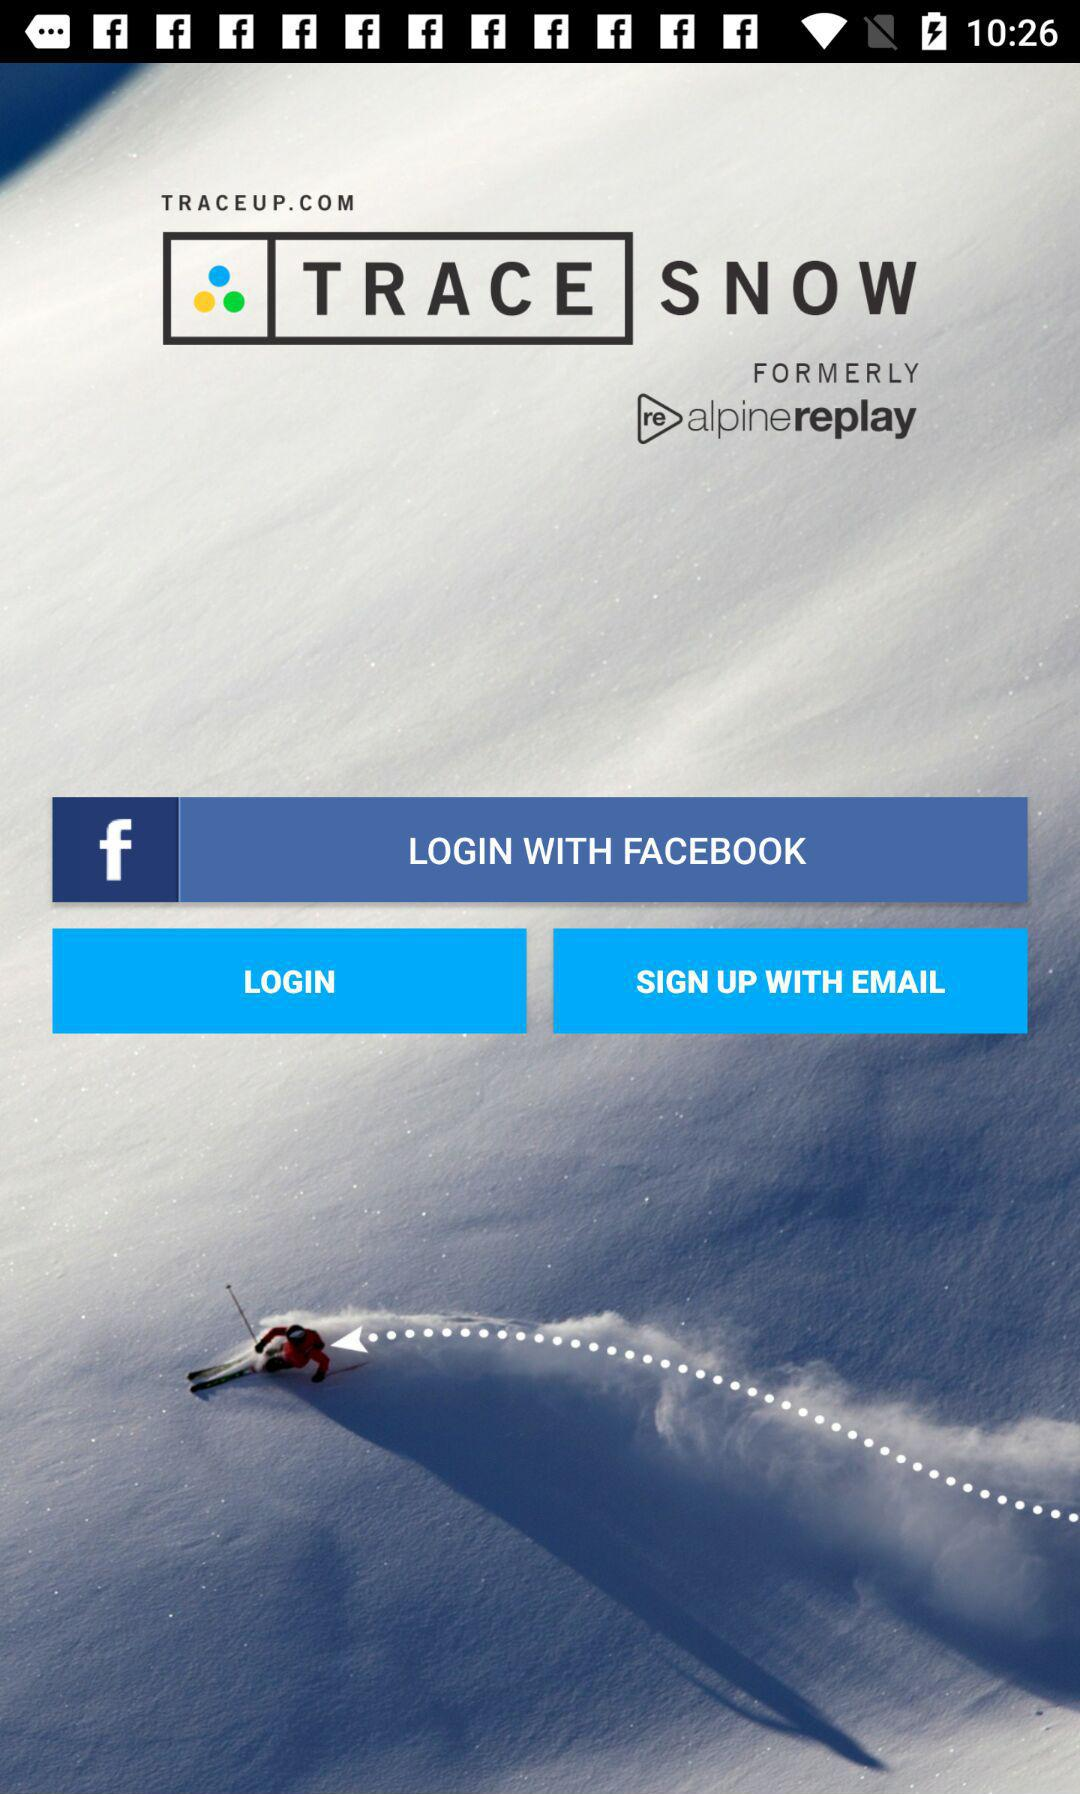BackgroundImage: (1, 64, 1080, 1794)
Image: (159, 192, 921, 446)
TextButton: (53, 797, 1027, 903), (553, 928, 1029, 1035), (53, 928, 528, 1035)
UpperTaskBar: (1, 1, 1080, 64)
